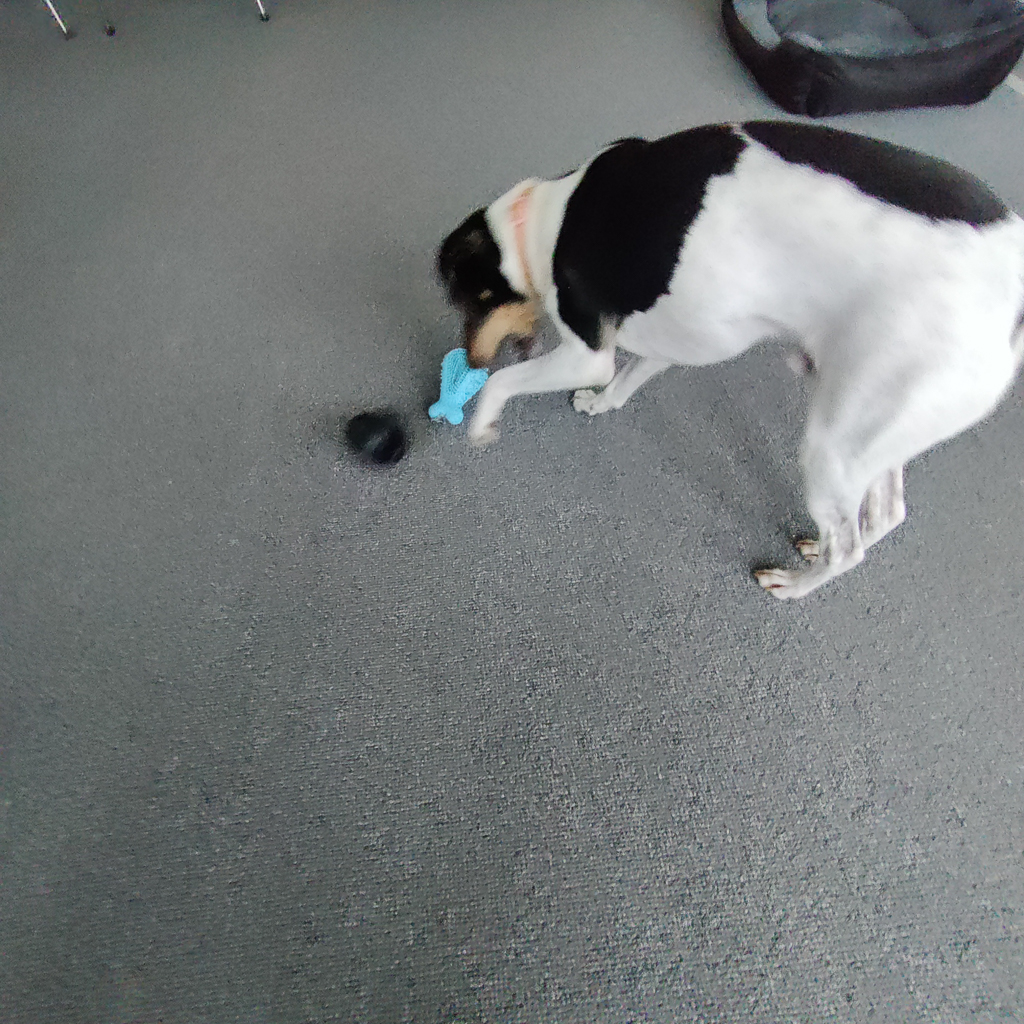Dog: (414, 102, 1024, 608)
